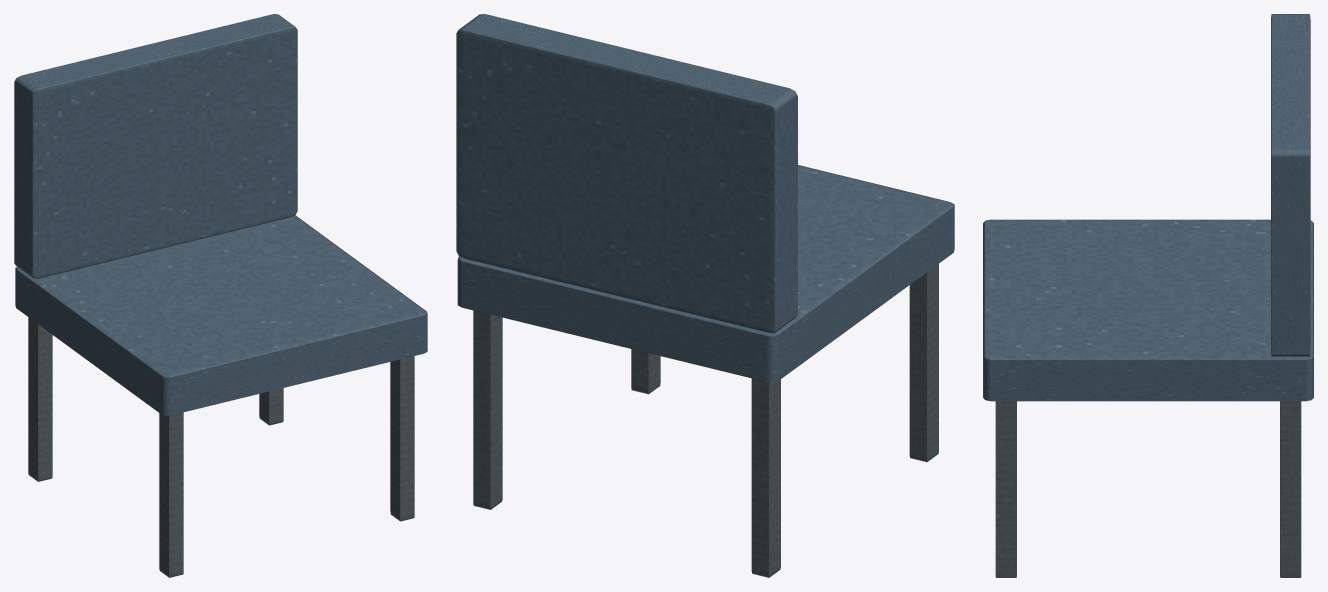
Rendered from waiting-chair.glb.
3 renders of one model, left to right at view 1: azimuth 30°, elevation 25°; view 2: azimuth 150°, elevation 25°; view 3: azimuth 270°, elevation 25°, orthographic. The views are drawn at different scales.
Visible parts, largest first — view 1: back, seat, leg (×4); view 2: back, seat, leg (×4); view 3: seat, back, leg (×2).
Boxes of the visible parts, box(x1,y1,x2,y2) form: back: box(14, 14, 297, 278); seat: box(15, 215, 427, 415); leg (×4): box(28, 317, 414, 577); back: box(456, 14, 797, 333); seat: box(457, 165, 954, 382); leg (×4): box(473, 264, 938, 577); seat: box(983, 219, 1313, 401); back: box(1271, 14, 1310, 356); leg (×2): box(995, 401, 1301, 577).
Bounding box in the file's own units: 0.5742 × 0.82 × 0.57.
Materials: 2 (2 with a texture image).
